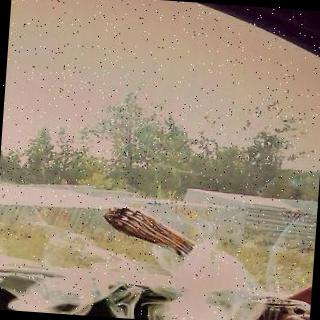smoke: (0, 231, 278, 320)
